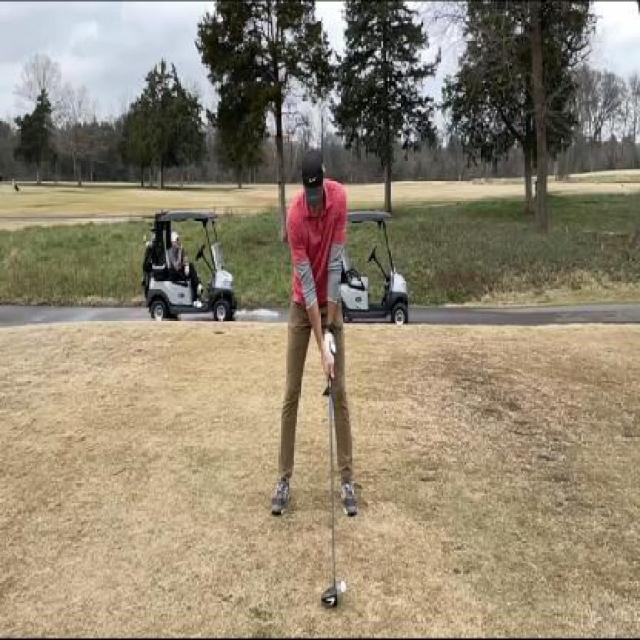club head: (321, 577, 339, 611)
